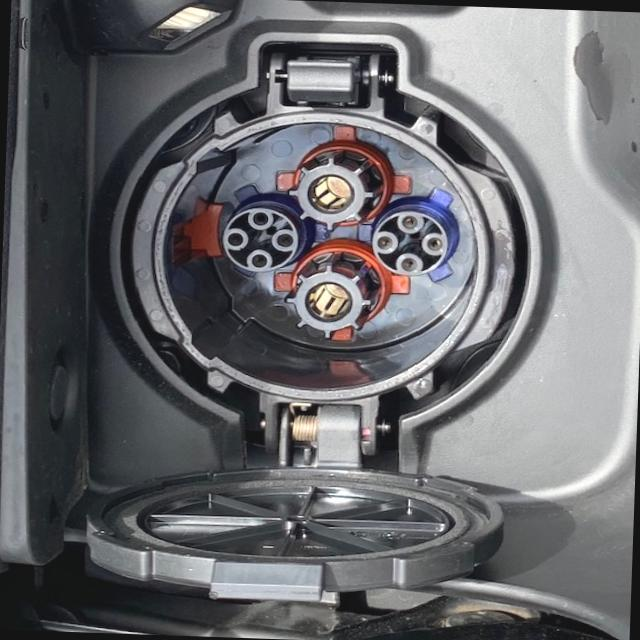CHAdeMO: (170, 105, 499, 368)
